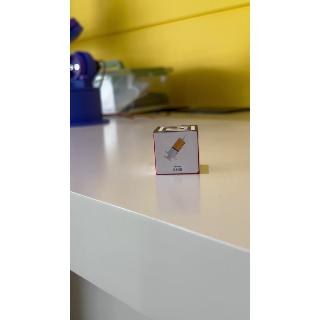Syringe: (154, 135, 202, 176)
